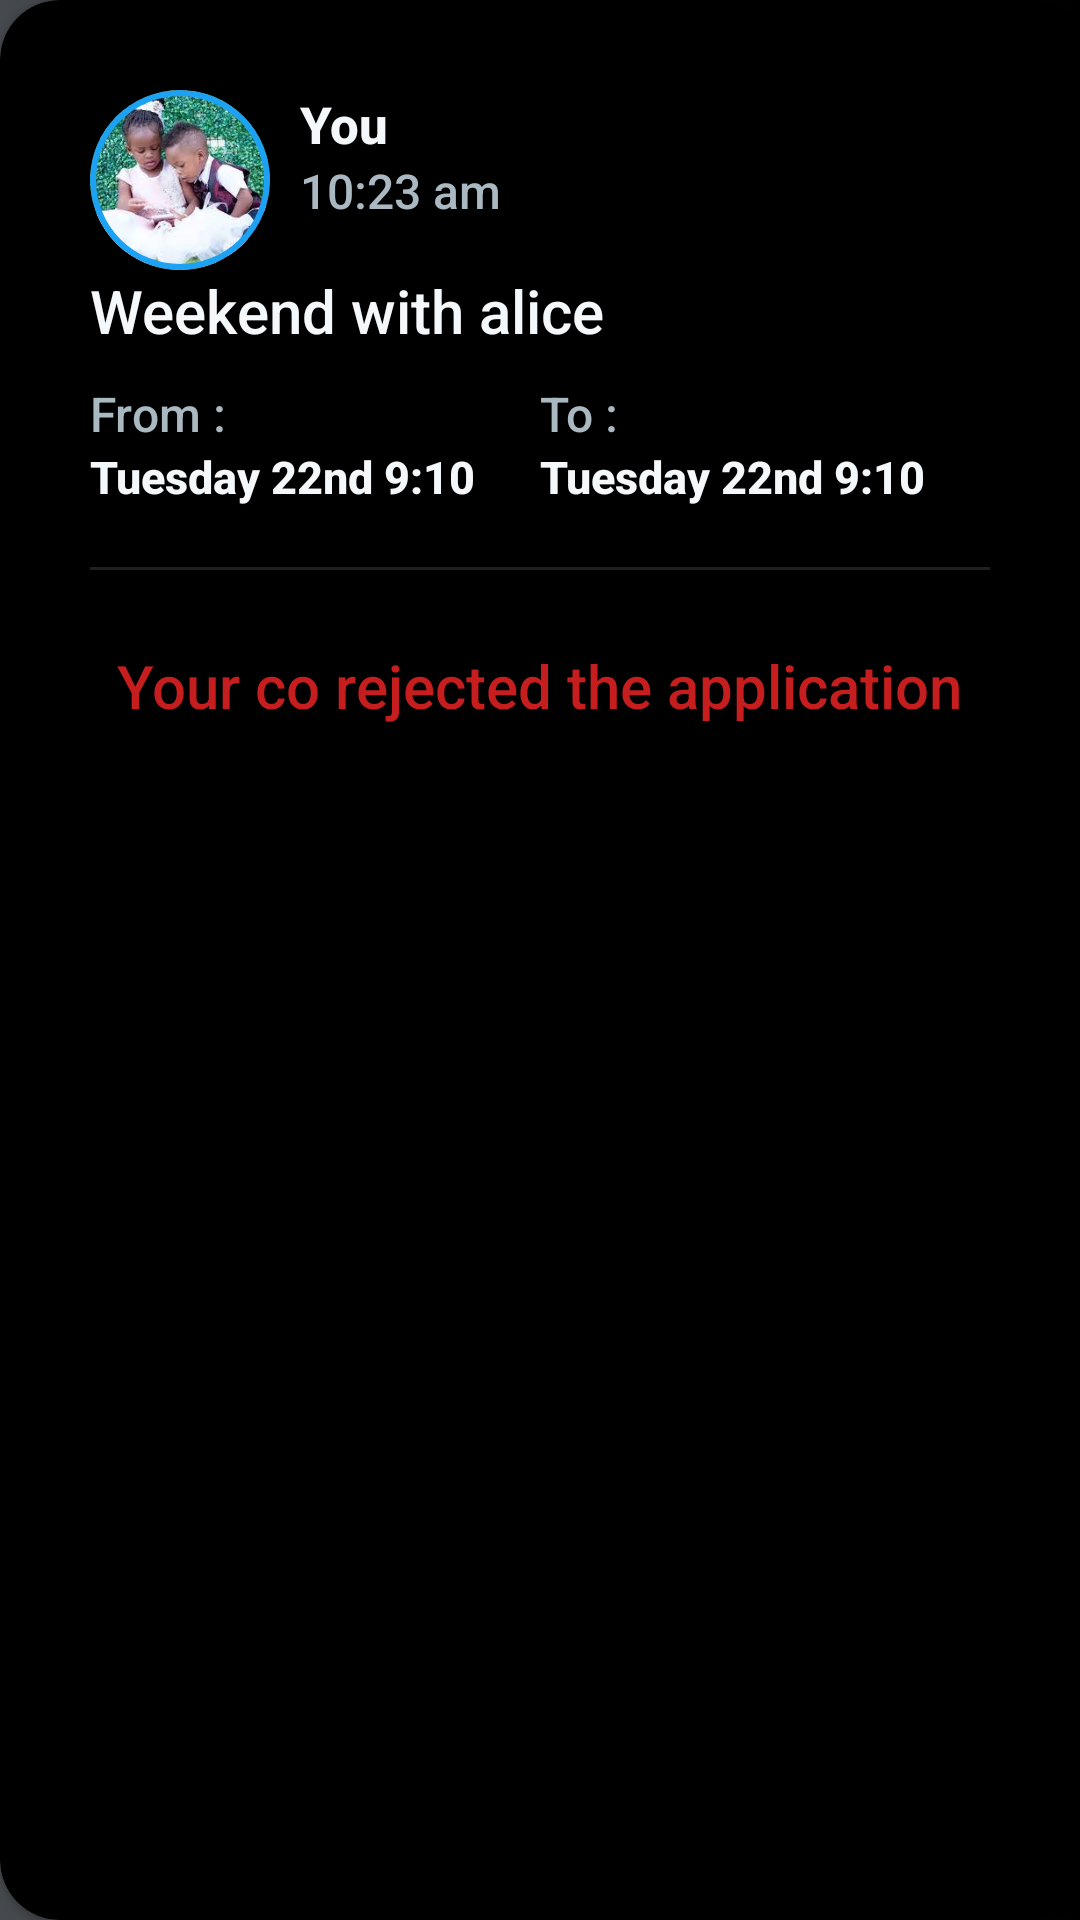

Icon click points for this 1080*1920 phone screenshot, format (x=x, y=y):
kid: (x=180, y=180)
